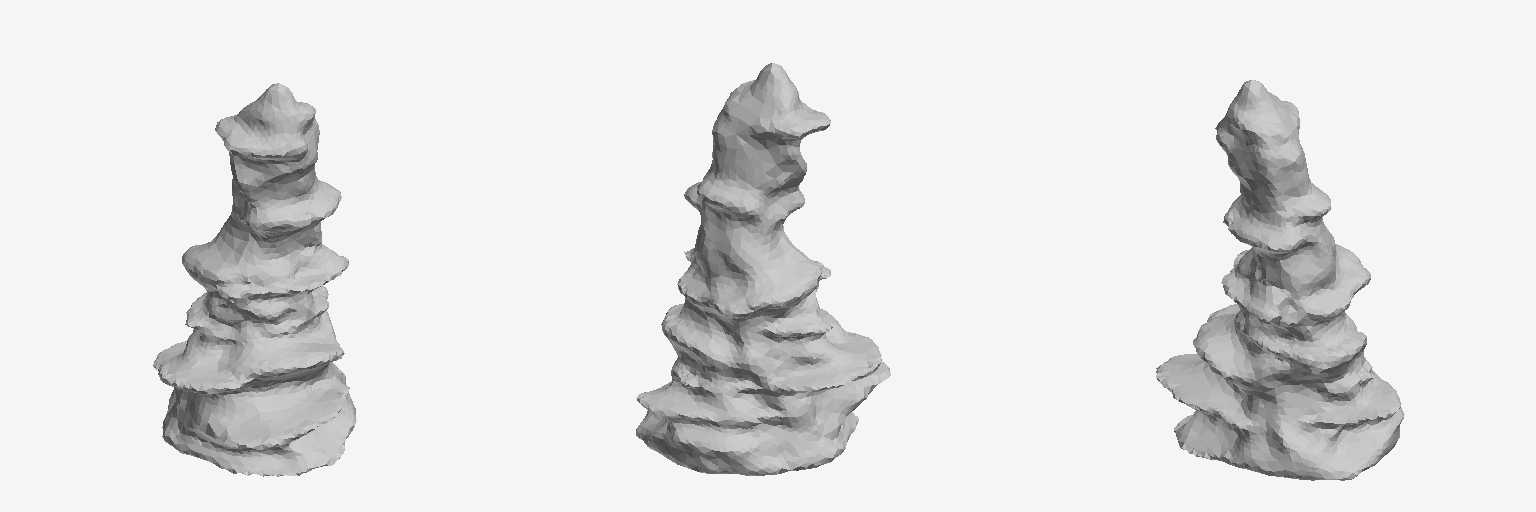
Rendered from startRock.obj.
3 renders of one model, left to right at view 1: azimuth 30°, elevation 25°; view 2: azimuth 150°, elevation 25°; view 3: azimuth 270°, elevation 25°, orthographic.
Parts seen in each view (by area): view 1: CaveRock02; view 2: CaveRock02; view 3: CaveRock02.
Boxes of the visible parts, box(x1,y1,x2,y2) form: CaveRock02: box(153, 83, 356, 476); CaveRock02: box(636, 63, 890, 475); CaveRock02: box(1156, 80, 1404, 480).
Bounding box in the file's own units: 51.61 × 87.77 × 54.78.